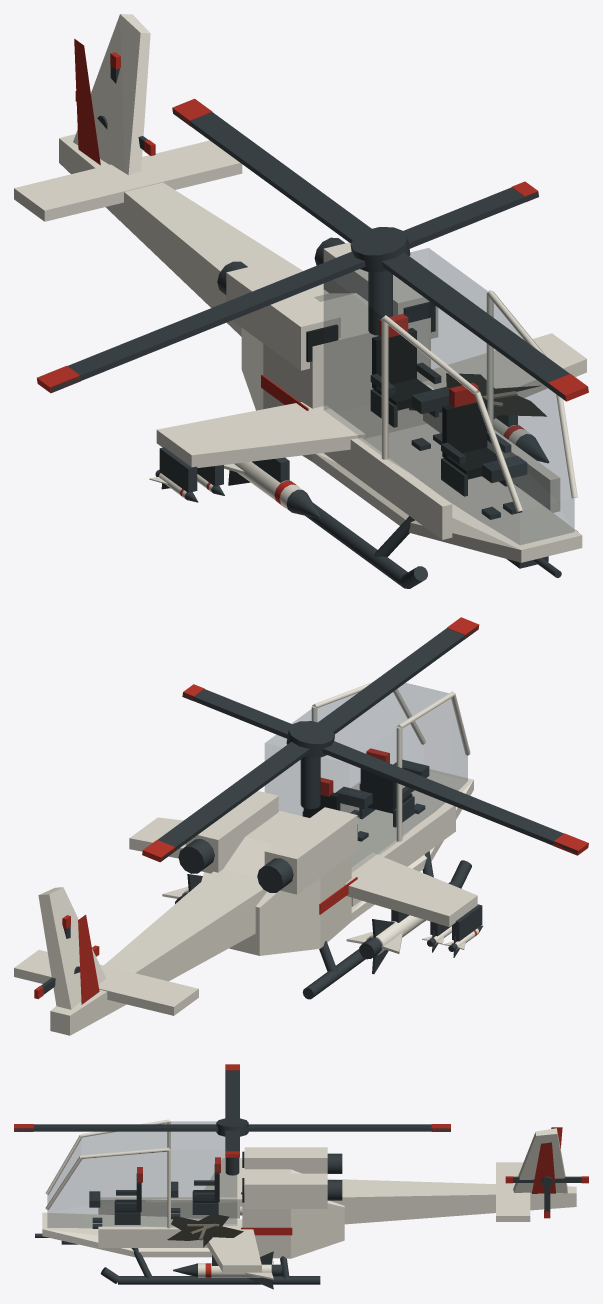
3 views of the same model, one above another, from view 1: azimuth 30°, elevation 25°; view 2: azimuth 150°, elevation 25°; view 3: azimuth 270°, elevation 25° (orthographic). The views are drawn at different scales.
Visible parts, largest first — view 1: helicopter-damaged-fleet-armor, helicopter-damaged-fleet-glass, helicopter-damaged-fleet-machine, blade-arm-2-painted, blade-arm-3-painted, blade-arm-1-painted, crew-chair-gunner-painted, crew-chair-pilot-painted, blade-arm-0-painted, helicopter-damaged-fleet-red, store-left-large-painted, rotor-main-fleet-machine (+3 smaller); view 2: helicopter-damaged-fleet-armor, helicopter-damaged-fleet-glass, helicopter-damaged-fleet-machine, blade-arm-2-painted, blade-arm-1-painted, blade-arm-3-painted, crew-chair-gunner-painted, store-left-large-painted, blade-arm-0-painted, helicopter-damaged-fleet-red, crew-chair-pilot-painted, rotor-main-fleet-machine; view 3: helicopter-damaged-fleet-armor, helicopter-damaged-fleet-glass, helicopter-damaged-fleet-machine, blade-arm-1-painted, blade-arm-3-painted, crew-chair-gunner-painted, store-right-large-painted, helicopter-damaged-fleet-red, crew-chair-pilot-painted, helicopter-damaged-fleet-damage-charred, blade-arm-2-painted, rotor-main-fleet-machine (+1 smaller).
Part boxes in pixels (left/top/right/bottom): helicopter-damaged-fleet-armor: left=14, top=14, right=586, bottom=562; helicopter-damaged-fleet-glass: left=324, top=248, right=574, bottom=544; helicopter-damaged-fleet-machine: left=159, top=237, right=577, bottom=588; blade-arm-2-painted: left=37, top=251, right=365, bottom=393; blade-arm-3-painted: left=381, top=252, right=588, bottom=401; blade-arm-1-painted: left=172, top=98, right=371, bottom=243; crew-chair-gunner-painted: left=441, top=382, right=527, bottom=519; crew-chair-pilot-painted: left=370, top=314, right=449, bottom=450; blade-arm-0-painted: left=403, top=181, right=538, bottom=248; helicopter-damaged-fleet-red: left=74, top=38, right=308, bottom=410; store-left-large-painted: left=224, top=461, right=321, bottom=518; rotor-main-fleet-machine: left=350, top=227, right=410, bottom=271; helicopter-damaged-fleet-armor: left=14, top=682, right=477, bottom=1035; helicopter-damaged-fleet-glass: left=265, top=683, right=467, bottom=871; helicopter-damaged-fleet-machine: left=178, top=756, right=482, bottom=999; blade-arm-2-painted: left=322, top=741, right=588, bottom=855; blade-arm-1-painted: left=142, top=741, right=309, bottom=862; blade-arm-3-painted: left=318, top=617, right=479, bottom=734; crew-chair-gunner-painted: left=359, top=748, right=429, bottom=827; store-left-large-painted: left=346, top=915, right=425, bottom=974; blade-arm-0-painted: left=182, top=684, right=291, bottom=738; helicopter-damaged-fleet-red: left=78, top=877, right=357, bottom=1004; crew-chair-pilot-painted: left=302, top=777, right=372, bottom=841; rotor-main-fleet-machine: left=286, top=721, right=334, bottom=757; helicopter-damaged-fleet-armor: left=42, top=1119, right=576, bottom=1272; helicopter-damaged-fleet-glass: left=47, top=1121, right=236, bottom=1227; helicopter-damaged-fleet-machine: left=100, top=1153, right=342, bottom=1284; blade-arm-1-painted: left=246, top=1124, right=450, bottom=1131; blade-arm-3-painted: left=14, top=1124, right=218, bottom=1131; crew-chair-gunner-painted: left=89, top=1167, right=142, bottom=1228; store-right-large-painted: left=173, top=1251, right=282, bottom=1289; helicopter-damaged-fleet-red: left=241, top=1127, right=562, bottom=1235; crew-chair-pilot-painted: left=171, top=1157, right=220, bottom=1219; helicopter-damaged-fleet-damage-charred: left=167, top=1215, right=243, bottom=1247; blade-arm-2-painted: left=225, top=1064, right=239, bottom=1118; rotor-main-fleet-machine: left=216, top=1118, right=248, bottom=1136.
Size of the model in its own units: 39.59 by 19.2 by 66.32.
